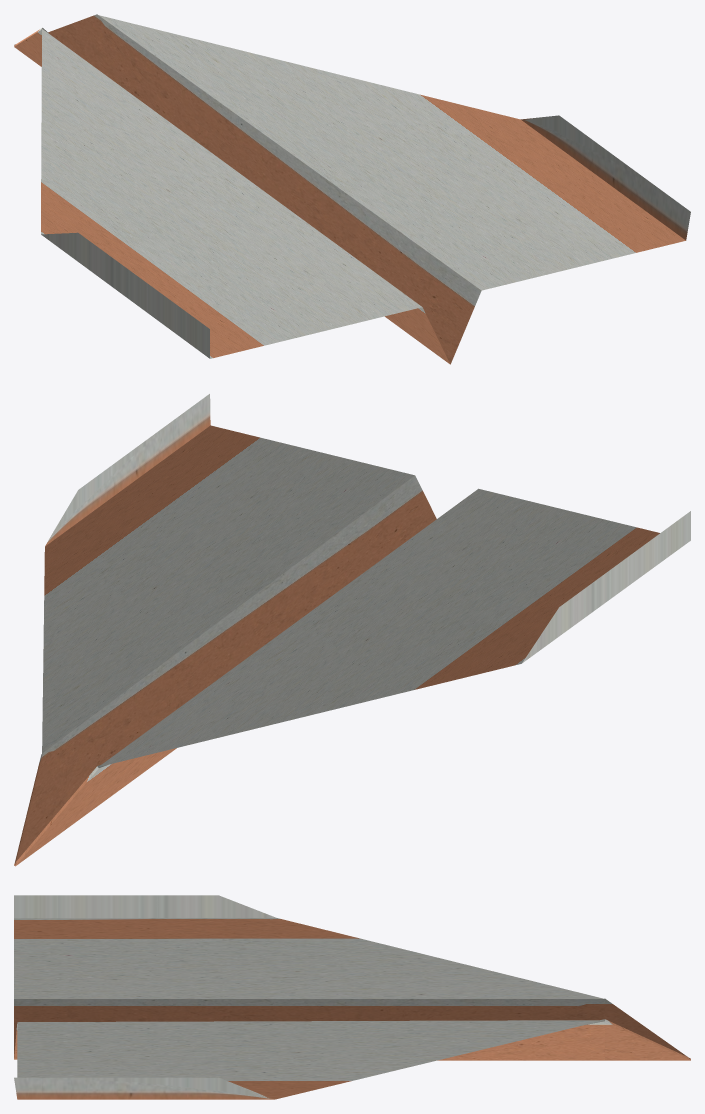
Rendered from RedPaperPlaneOne.obj.
3 renders of one model, top to bottom at view 1: azimuth 30°, elevation 25°; view 2: azimuth 150°, elevation 25°; view 3: azimuth 270°, elevation 25°, orthographic. The views are drawn at different scales.
Parts seen in each view (by area): view 1: Layer0_001; view 2: Layer0_001; view 3: Layer0_001.
Part boxes in pixels (<box>): Layer0_001: <box>14,14,690,364</box>; Layer0_001: <box>14,394,690,866</box>; Layer0_001: <box>14,895,690,1099</box>.
Size of the model in its own units: 12.64 by 2.39 by 19.84.
1 material, 1 textured.
